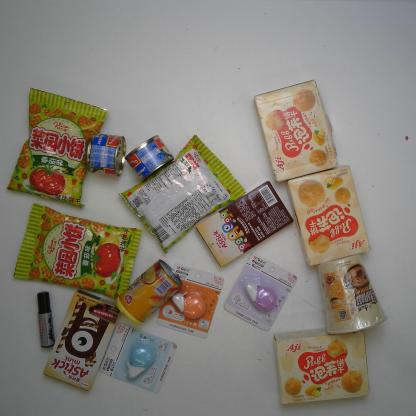Canned Food: (113, 260, 183, 325), (125, 134, 175, 182), (87, 132, 124, 177)
Dessert: (254, 77, 340, 186), (286, 164, 374, 269), (196, 181, 293, 268), (271, 326, 372, 408), (42, 290, 122, 393)
Instant Noodles: (316, 252, 389, 337)
Puffed Food: (118, 134, 246, 254), (6, 85, 109, 211), (13, 204, 143, 300)
Stationery: (223, 251, 298, 332), (100, 323, 178, 394), (154, 262, 224, 338), (35, 291, 56, 349)
